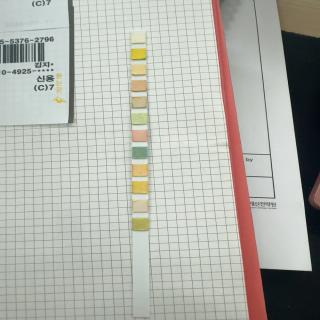mark: (132, 218, 148, 230), (132, 200, 148, 212), (132, 182, 148, 194), (132, 164, 148, 176), (132, 130, 148, 142), (132, 112, 148, 124), (133, 146, 147, 158), (132, 96, 146, 108), (132, 80, 146, 90), (132, 64, 146, 74), (132, 49, 146, 59), (132, 32, 146, 42)
